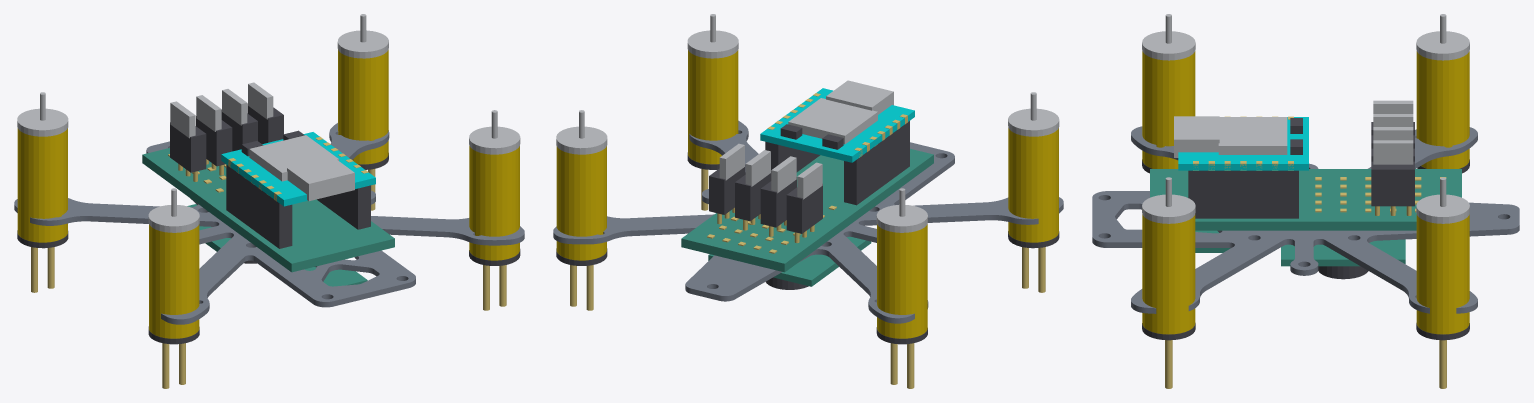
File: aerospark.glb
3 renders of one model, left to right at view 1: azimuth 30°, elevation 25°; view 2: azimuth 150°, elevation 25°; view 3: azimuth 270°, elevation 25°, orthographic. The views are drawn at different scales.
Visible parts, largest first — view 1: frame_body, pcb_base, motor_1, motor_3, motor_2, esp32_board, motor_0, mosfet_0, mosfet_1, mosfet_3, mosfet_2, sensor_tof; view 2: frame_body, pcb_base, motor_3, esp32_board, motor_1, motor_0, motor_2, mosfet_0, mosfet_1, mosfet_3, mosfet_2, sensor_flow; view 3: frame_body, pcb_base, motor_2, motor_0, esp32_board, motor_1, motor_3, mosfet_3, sensor_flow, mosfet_0, mosfet_2, mosfet_1.
Part boxes in pixels (x1,y1,x2,y2): frame_body: [14, 123, 524, 324]; pcb_base: [142, 148, 394, 272]; motor_1: [17, 92, 68, 292]; motor_3: [148, 188, 199, 388]; motor_2: [469, 110, 520, 310]; esp32_board: [221, 130, 375, 206]; motor_0: [337, 14, 388, 210]; mosfet_0: [170, 101, 206, 181]; mosfet_1: [196, 95, 232, 175]; mosfet_3: [247, 82, 283, 143]; mosfet_2: [221, 89, 257, 151]; sensor_tof: [304, 267, 367, 286]; frame_body: [553, 120, 1063, 323]; pcb_base: [681, 121, 933, 272]; motor_3: [1008, 92, 1059, 292]; esp32_board: [760, 80, 914, 162]; motor_1: [876, 188, 927, 388]; motor_0: [556, 110, 607, 310]; motor_2: [687, 14, 738, 210]; mosfet_0: [786, 162, 822, 243]; mosfet_1: [760, 156, 796, 236]; mosfet_3: [709, 143, 745, 224]; mosfet_2: [735, 150, 771, 230]; sensor_flow: [708, 236, 871, 289]; frame_body: [1092, 126, 1519, 313]; pcb_base: [1150, 169, 1461, 230]; motor_2: [1142, 177, 1195, 388]; motor_0: [1416, 177, 1469, 388]; esp32_board: [1174, 116, 1308, 170]; motor_1: [1416, 14, 1469, 173]; motor_3: [1142, 14, 1195, 173]; mosfet_3: [1371, 140, 1414, 215]; sensor_flow: [1281, 239, 1405, 279]; mosfet_0: [1371, 100, 1414, 135]; mosfet_2: [1371, 127, 1414, 161]; mosfet_1: [1371, 114, 1414, 148].
Size of the model in its own units: 2.35 by 1.21 by 2.29.
